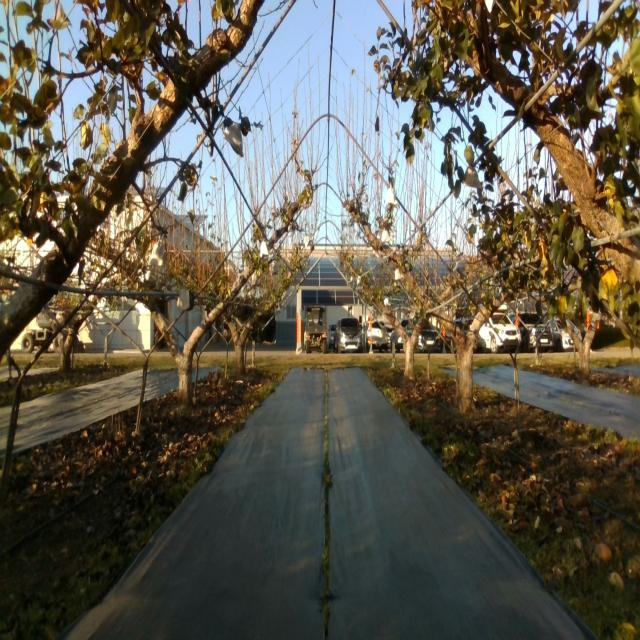pearbags: (222, 121, 243, 158), (148, 236, 166, 268), (463, 165, 483, 188)
